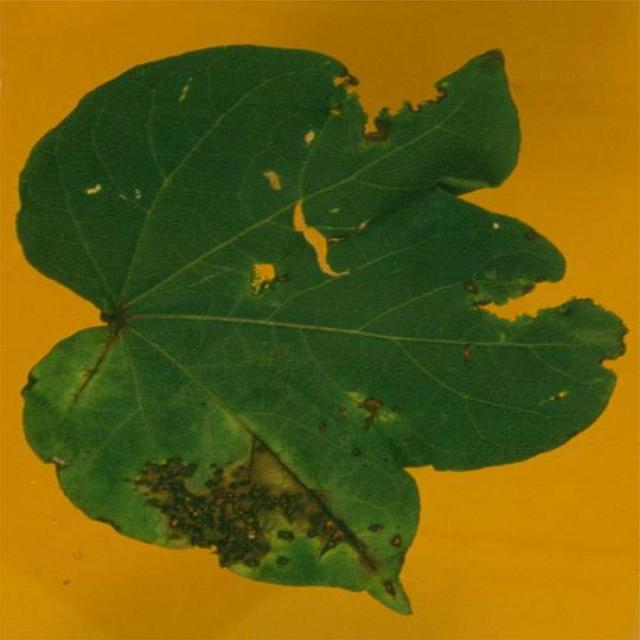Bacterial Blight: (110, 423, 392, 589)
